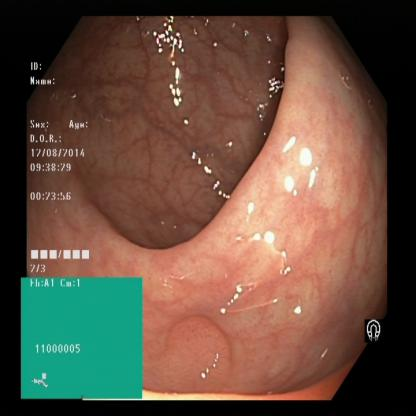Labels: (28, 56, 98, 278), (20, 276, 142, 399), (363, 310, 384, 350)
Polyps: (153, 307, 248, 395)
